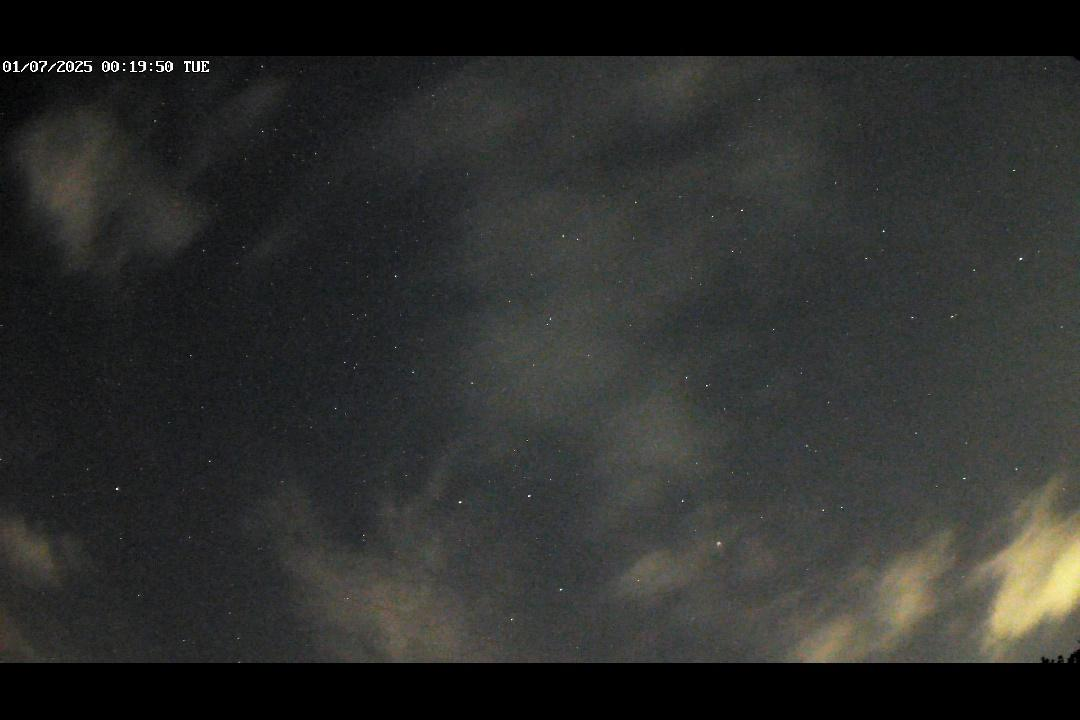Plane: (709, 537, 738, 563)
